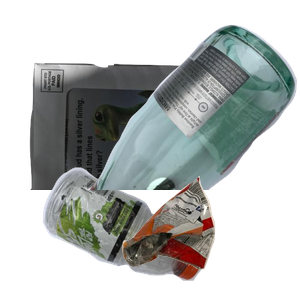glass: (86, 22, 300, 202)
paper: (27, 60, 223, 240)
plastic: (40, 165, 235, 300)
trash: (120, 174, 300, 300)
